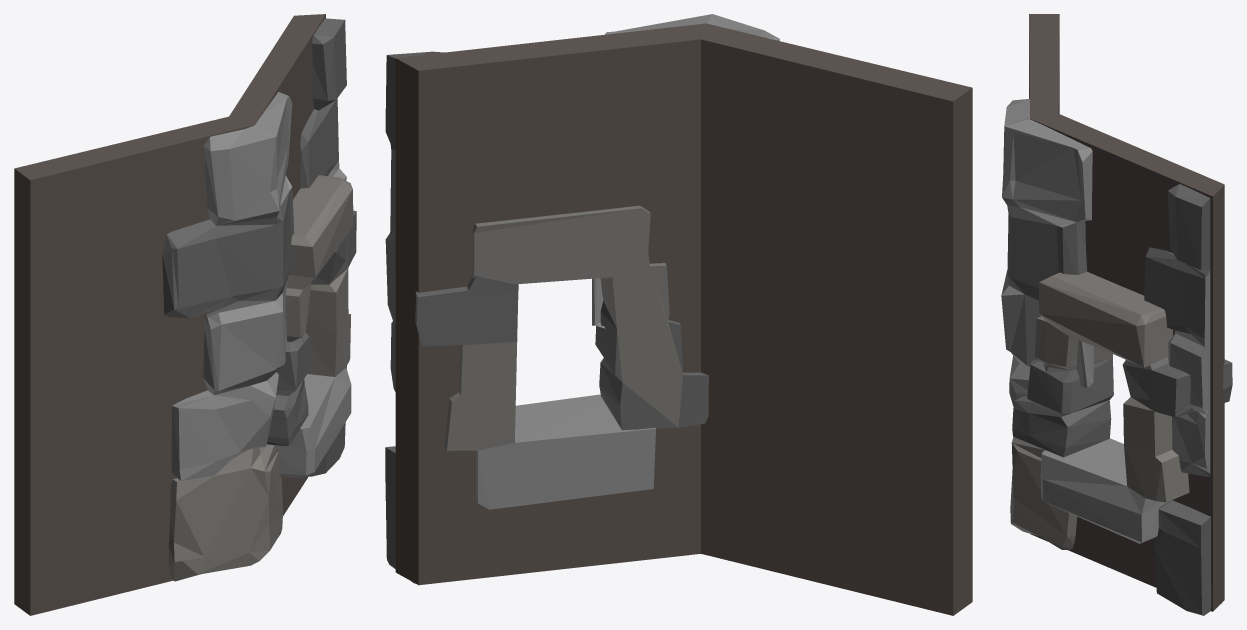
The model's file is MCastle_OctWalls_RectWindow_02.FBX.
3 views of the same model, side by side, from view 1: azimuth 30°, elevation 25°; view 2: azimuth 150°, elevation 25°; view 3: azimuth 270°, elevation 25° (orthographic). The views are drawn at different scales.
Parts seen in each view (by area): view 1: MCastle_OctWalls_RectWindow_02_LOD0; view 2: MCastle_OctWalls_RectWindow_02_LOD0; view 3: MCastle_OctWalls_RectWindow_02_LOD0.
Boxes of the visible parts, x1,y1,x2,y2 form: MCastle_OctWalls_RectWindow_02_LOD0: (14,14,356,615); MCastle_OctWalls_RectWindow_02_LOD0: (385,14,972,615); MCastle_OctWalls_RectWindow_02_LOD0: (1001,14,1232,615).
Size of what is drawn, in the model's own units: 4.36 by 4.47 by 2.25.
